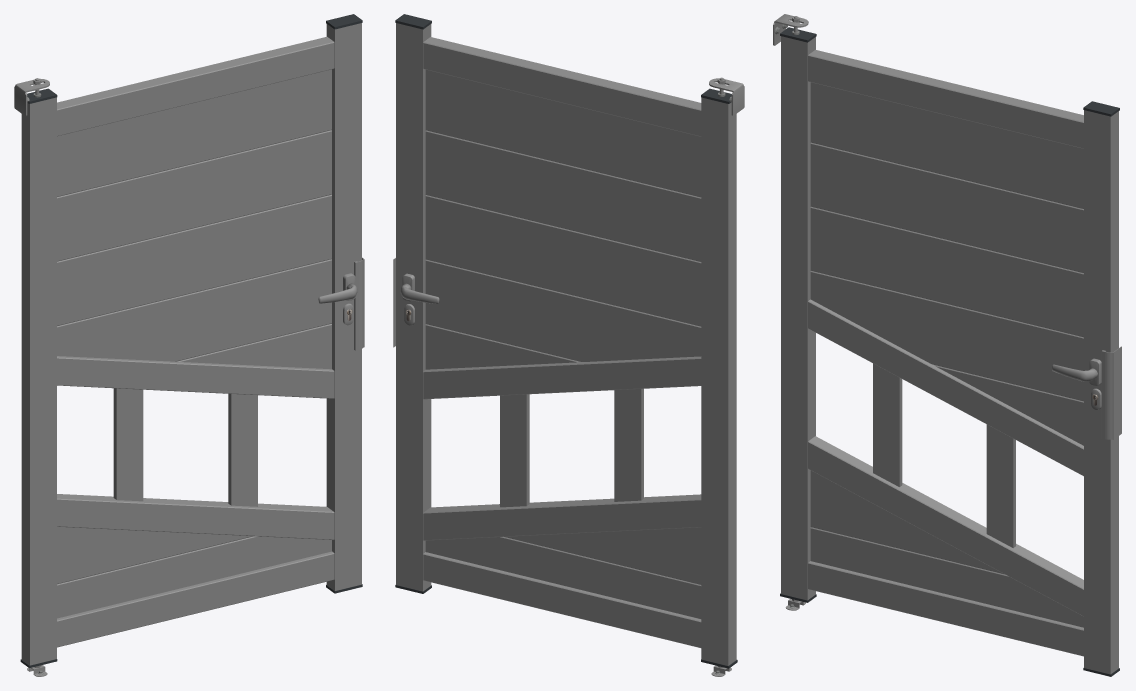
The picture shows the model from 3 angles, left to right: view 1: azimuth 30°, elevation 25°; view 2: azimuth 150°, elevation 25°; view 3: azimuth 330°, elevation 25°; orthographic projection.
Parts seen in each view (by area): view 1: Shape107412643, Shape107412646, Shape107412645, Shape203, Shape107412638, Shape107412647, Shape096, Shape2113231321321, Shape107412651, Shape107411694, Shape095, Shape107412650 (+5 smaller); view 2: Shape107412643, Shape107412645, Shape107412646, Shape203, Shape107412638, Shape107412647, Shape096, Shape2113231321321, Shape107412651, Shape107411694, Shape095, Shape107412650 (+4 smaller); view 3: Shape107412645, Shape107412646, Shape107412638, Shape107412643, Shape203, Shape107412647, Shape2113231321321, Shape096, Shape107412651, Shape107411694, Shape095, Shape107412650 (+4 smaller).
Part boxes in pixels (left/top/right/bottom): Shape107412643: left=21, top=97, right=56, bottom=665; Shape107412646: left=57, top=194, right=331, bottom=325; Shape107412645: left=57, top=130, right=331, bottom=261; Shape203: left=57, top=69, right=331, bottom=196; Shape107412638: left=326, top=23, right=361, bottom=590; Shape107412647: left=57, top=259, right=331, bottom=361; Shape096: left=57, top=36, right=334, bottom=136; Shape2113231321321: left=57, top=494, right=334, bottom=539; Shape107412651: left=57, top=536, right=331, bottom=618; Shape107411694: left=57, top=356, right=334, bottom=398; Shape095: left=57, top=551, right=334, bottom=647; Shape107412650: left=57, top=526, right=252, bottom=584; Shape107412643: left=701, top=97, right=736, bottom=665; Shape107412645: left=425, top=130, right=701, bottom=261; Shape107412646: left=425, top=195, right=701, bottom=326; Shape203: left=425, top=69, right=701, bottom=197; Shape107412638: left=396, top=23, right=431, bottom=591; Shape107412647: left=425, top=259, right=701, bottom=361; Shape096: left=423, top=37, right=701, bottom=136; Shape2113231321321: left=423, top=494, right=701, bottom=540; Shape107412651: left=425, top=537, right=701, bottom=618; Shape107411694: left=423, top=356, right=701, bottom=399; Shape095: left=423, top=552, right=701, bottom=647; Shape107412650: left=504, top=527, right=701, bottom=584; Shape107412645: left=810, top=142, right=1083, bottom=272; Shape107412646: left=810, top=206, right=1083, bottom=337; Shape107412638: left=1084, top=110, right=1118, bottom=674; Shape107412643: left=781, top=36, right=815, bottom=600; Shape203: left=810, top=82, right=1083, bottom=208; Shape107412647: left=810, top=271, right=1083, bottom=401; Shape2113231321321: left=808, top=436, right=1083, bottom=616; Shape096: left=808, top=49, right=1083, bottom=148; Shape107412651: left=810, top=527, right=1083, bottom=627; Shape107411694: left=808, top=299, right=1083, bottom=476; Shape095: left=808, top=561, right=1083, bottom=656; Shape107412650: left=810, top=470, right=1004, bottom=574.
Bounding box in the file's own units: 1015 × 1688 × 152.
7 materials, 4 textured.
